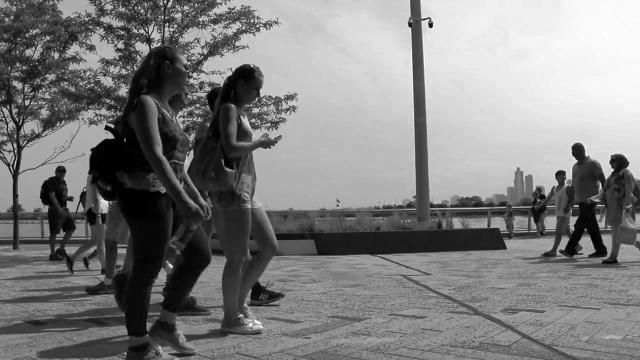berjalan: (86, 43, 204, 360), (202, 54, 282, 346), (555, 141, 613, 257), (588, 142, 640, 268), (38, 165, 78, 265), (544, 166, 580, 260)
